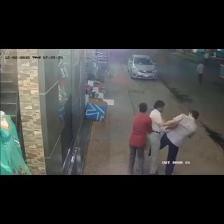person: (160, 110, 199, 174), (129, 103, 152, 174), (149, 101, 165, 174), (197, 62, 204, 83), (205, 52, 209, 65)
